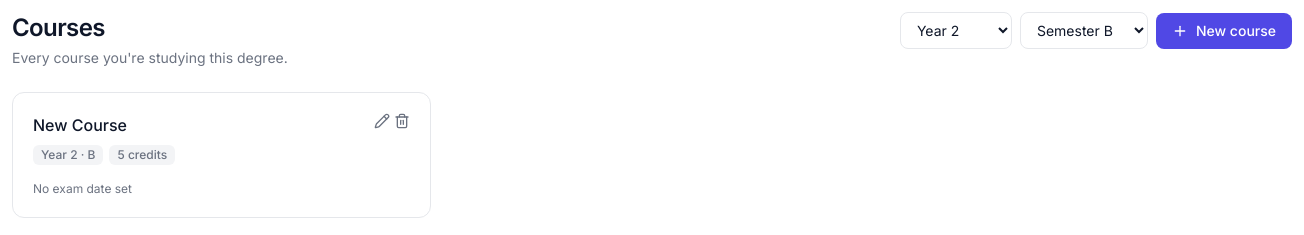
it: CoursesPage › switching to All courses shows everything
Expected: the text "New Course" is shown, [33,113,127,137]
Select "All years" in the dropdown named "Filter by year" at (956, 30), box [900,12,1012,49]
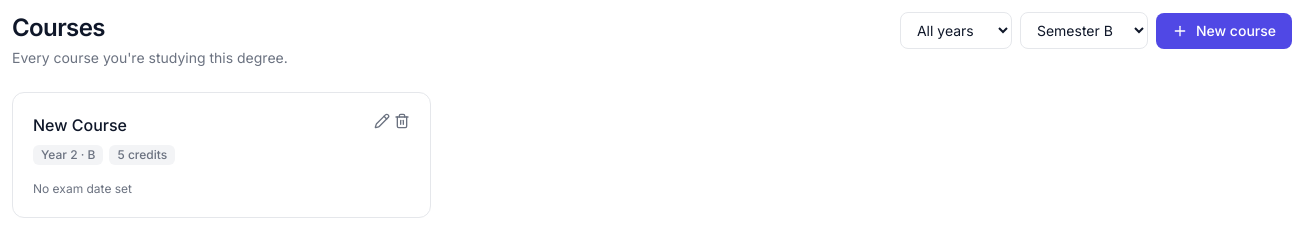
Select "All semesters" in the dropdown named "Filter by semester" at (1084, 30), box [1020,12,1148,49]
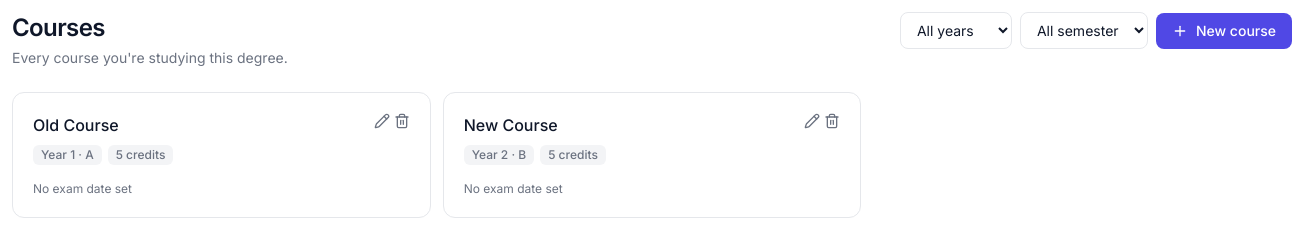
Expected: the text "New Course" is shown, [464,113,558,137]
Expected: the text "Old Course" is shown, [33,113,119,137]
